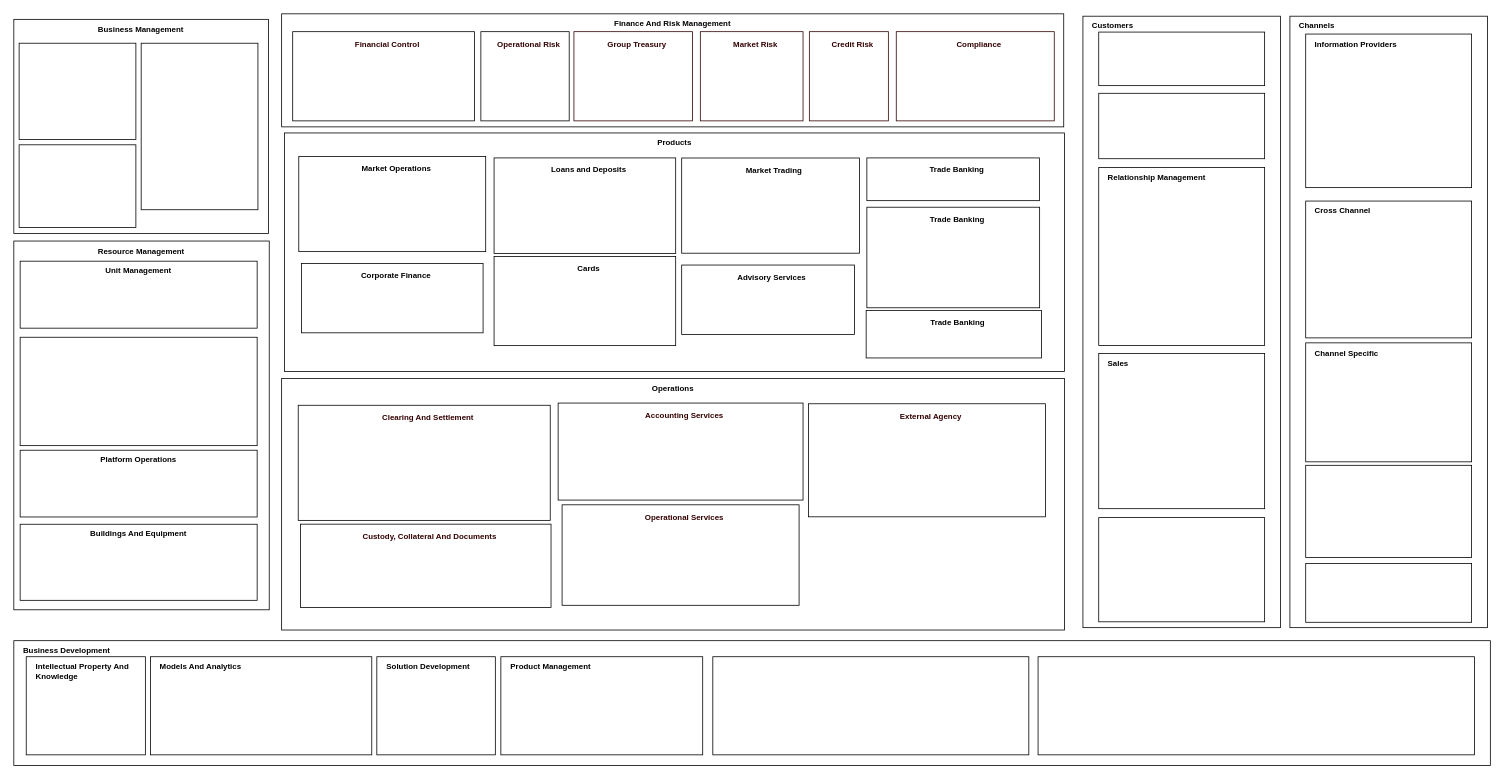
The diagram is 1504 pixels wide and 780 high, and some of its shapes have lost their labels. Each missing label, with the centre of its shape:
"Business Direction" belongs at (199,126).
"Channel Management" belongs at (1256,705).
"Corporate Relations" belongs at (77,91).
"Corporate Services" belongs at (77,186).
"Customer Care" belongs at (1181,569).
"Distribution" belongs at (1388,592).
"Human Resources" belongs at (138,391).
"Investment Services" belongs at (1181,126).
"Marketing And Development" belongs at (870,705).
"Party Reference" belongs at (1181,58).
"Servicing" belongs at (1388,511).
